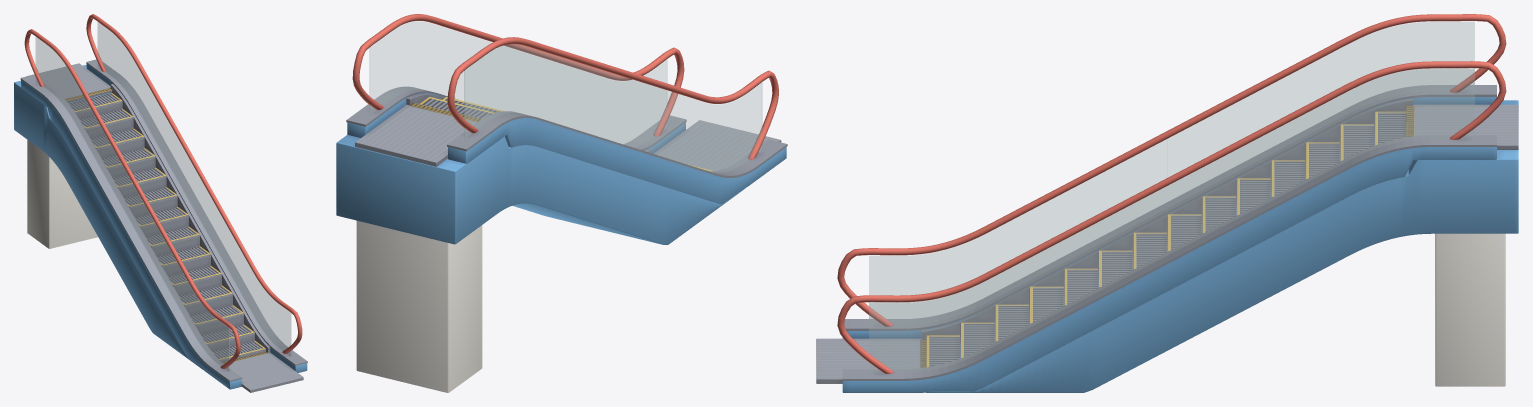
Rendered from grab3d-escalator.glb.
3 views of the same model, side by side, from view 1: azimuth 30°, elevation 25°; view 2: azimuth 150°, elevation 25°; view 3: azimuth 270°, elevation 25° (orthographic). The views are drawn at different scales.
Visible parts, largest first — view 1: escalator_body, escalator_glass_balustrade; view 2: escalator_body, escalator_glass_balustrade; view 3: escalator_body, escalator_glass_balustrade.
Part boxes in pixels (box(x1,y1,x2,y2)): escalator_body: box(14, 14, 307, 392); escalator_glass_balustrade: box(35, 22, 291, 371); escalator_body: box(336, 14, 787, 392); escalator_glass_balustrade: box(369, 21, 762, 172); escalator_body: box(816, 14, 1518, 392); escalator_glass_balustrade: box(869, 21, 1474, 372).
Size of the model in its own units: 1.61 by 4.09 by 8.
Materials: 2 (1 with a texture image).
